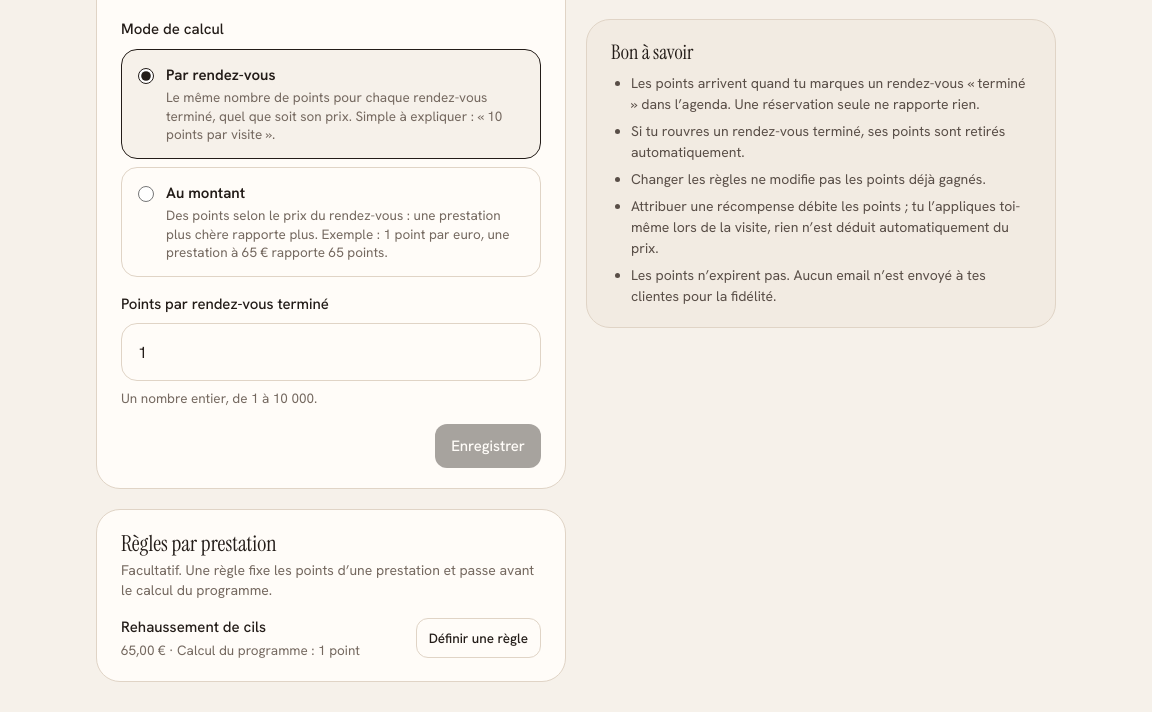
Test: program › takes the current version when she prefers it
The width and height of the screenshot is (1152, 712).
(page scrolled)
Replace the text in the field labelled "Points par rendez-vous terminé" with "15" at (331, 352), box [122,324,540,380]
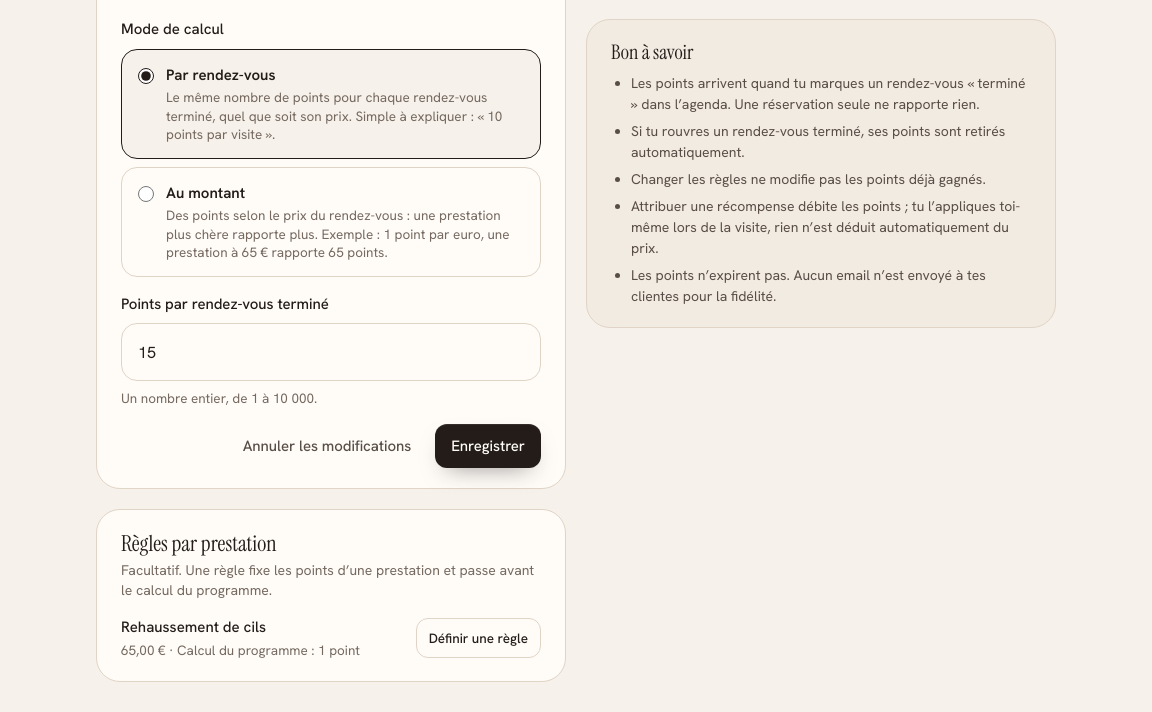
Click the button "Enregistrer" at (488, 446), box [435,424,541,468]
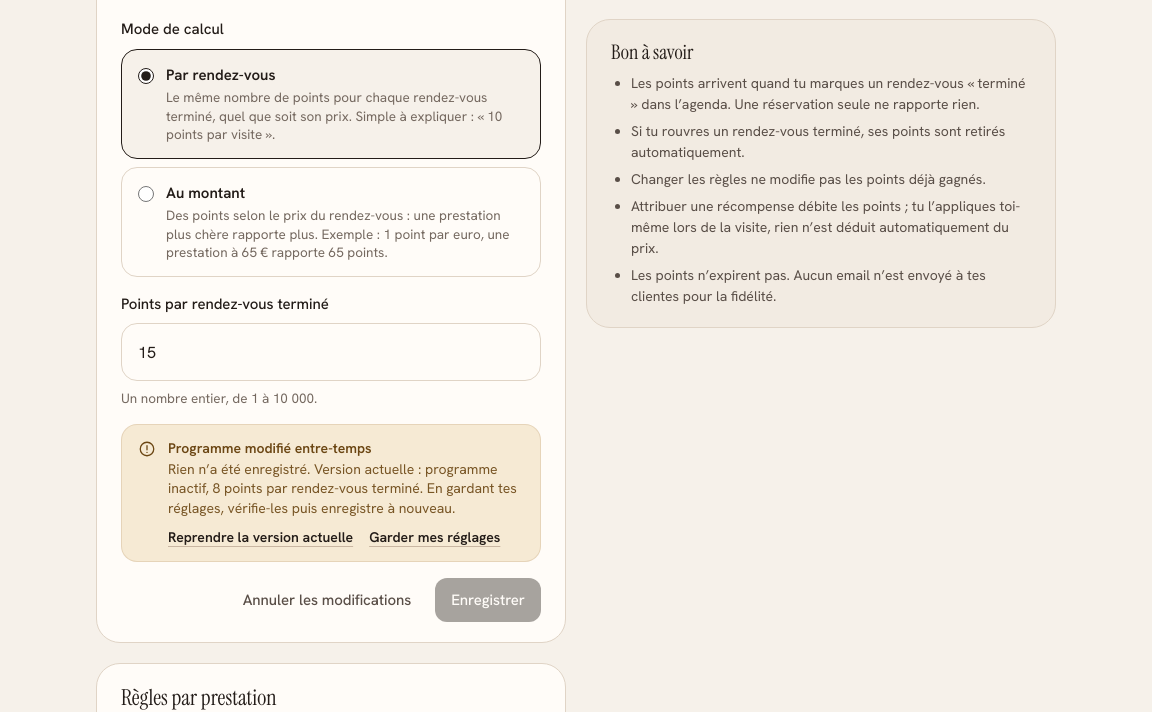
Click the button "Reprendre la version actuelle" at (261, 538), box [168,528,353,547]
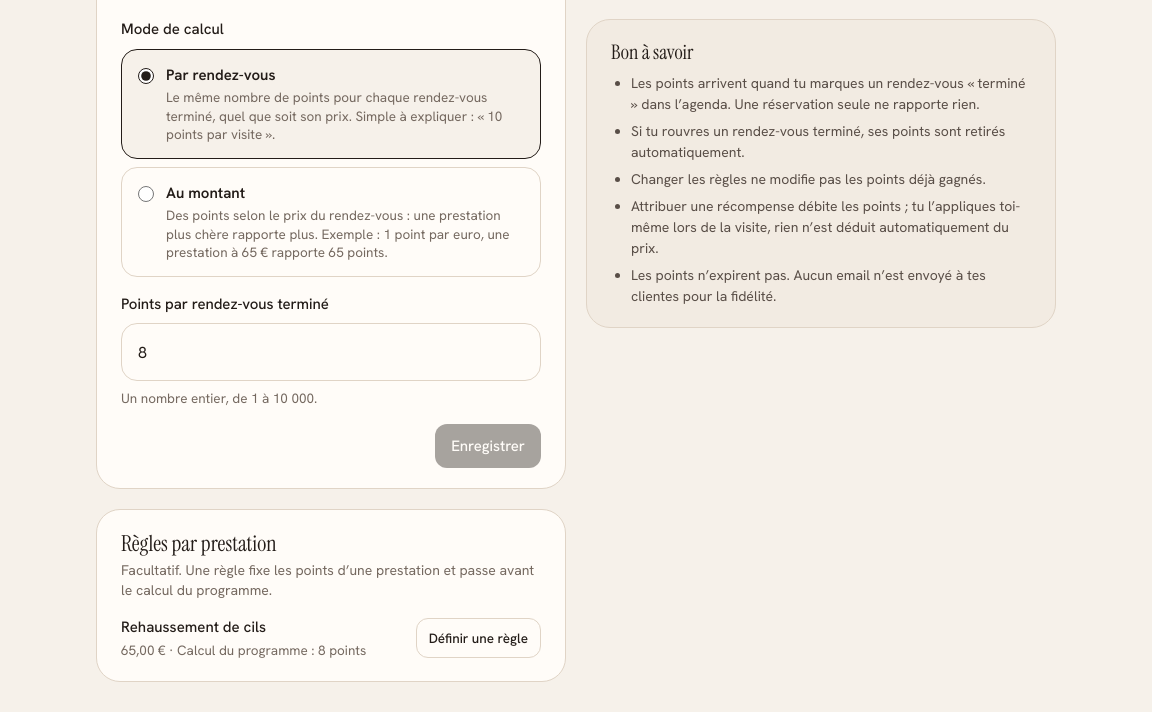
Expected: the field labelled "Points par rendez-vous terminé" holds "8", [122,324,540,380]
